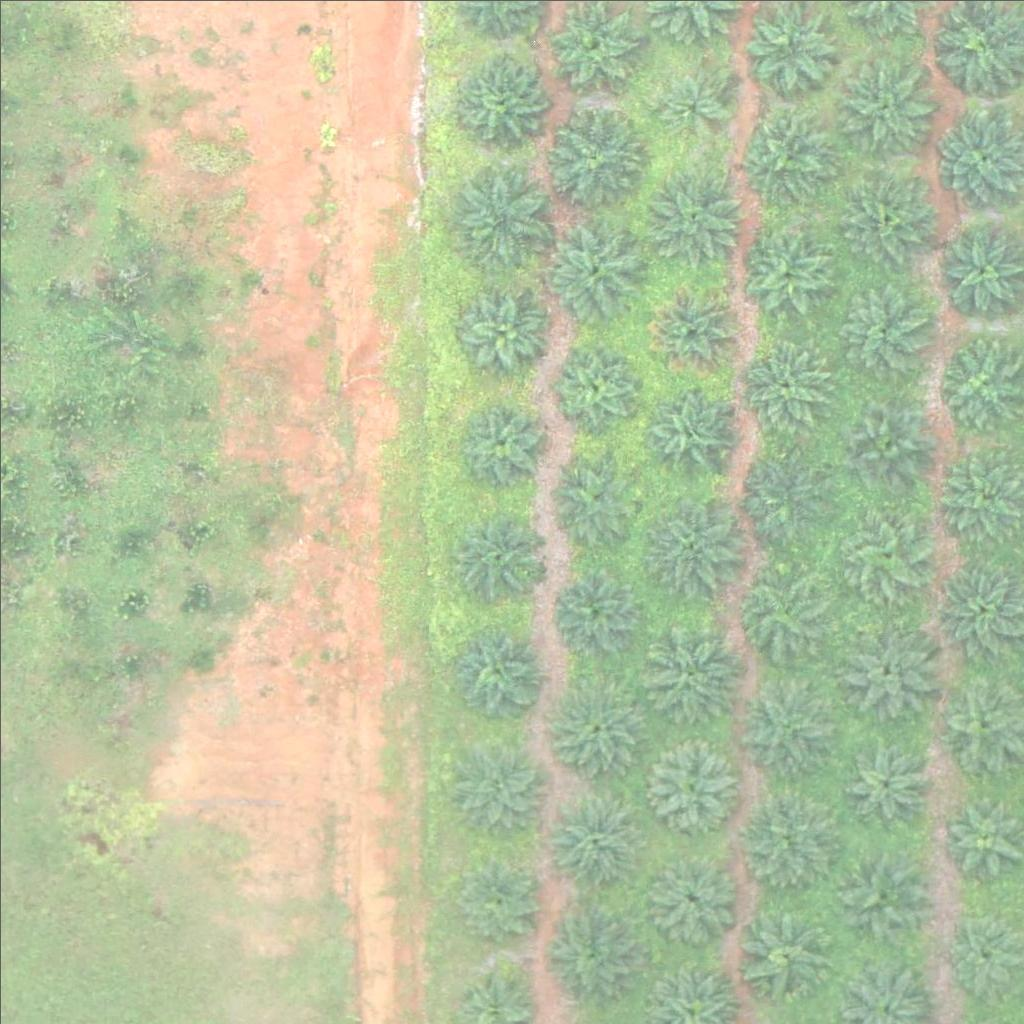Kelapa_Sawit: (831, 847, 931, 948), (736, 794, 836, 895), (731, 673, 831, 774), (640, 734, 740, 835), (641, 623, 741, 724), (640, 490, 740, 591), (538, 789, 638, 890), (545, 678, 645, 779), (446, 619, 546, 720), (736, 219, 836, 320), (735, 103, 835, 204), (830, 283, 930, 384), (833, 166, 933, 267), (834, 57, 934, 158), (542, 901, 642, 1001), (736, 905, 836, 1005), (837, 626, 937, 726), (728, 565, 828, 665), (729, 445, 829, 545), (451, 170, 551, 270), (546, 218, 646, 318), (544, 104, 644, 204), (641, 166, 741, 266), (646, 850, 734, 939), (841, 737, 929, 825), (842, 515, 930, 603), (839, 396, 927, 484), (552, 567, 640, 655), (450, 511, 538, 599), (454, 397, 542, 485), (453, 287, 541, 375), (739, 340, 827, 428), (936, 566, 1023, 654), (549, 455, 636, 543), (453, 857, 540, 945), (453, 742, 540, 830), (644, 383, 731, 471), (454, 50, 541, 138), (552, 344, 639, 432), (648, 286, 735, 374), (745, 4, 832, 92), (654, 62, 729, 138), (944, 801, 1019, 877)
